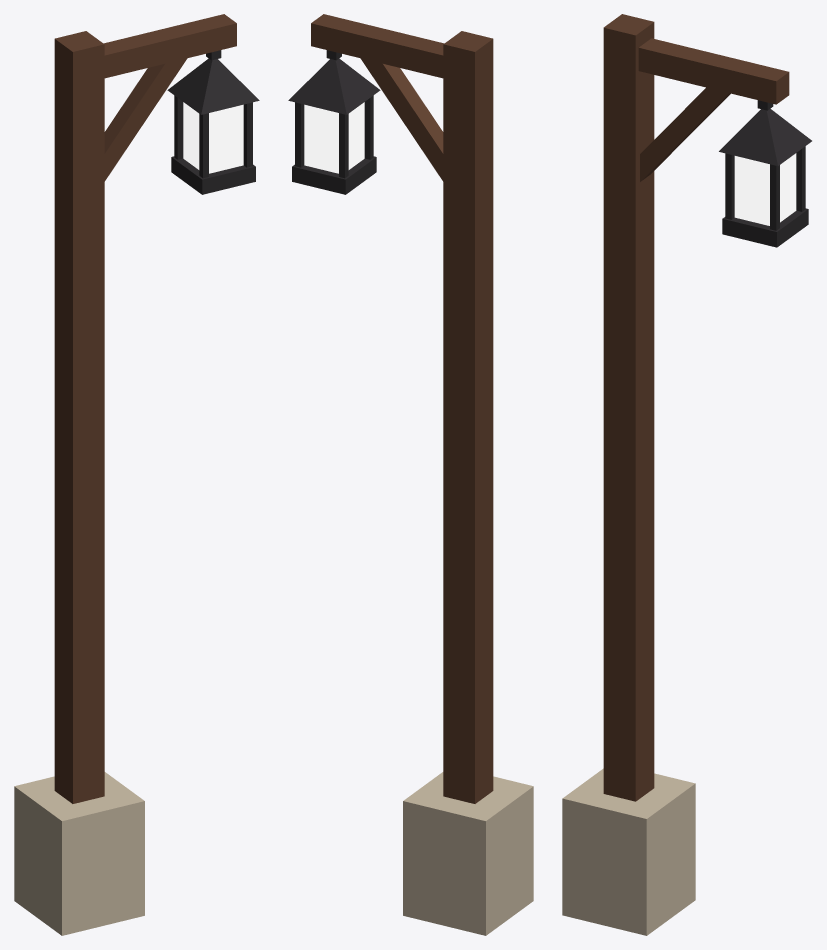
File: farol_pie.glb
3 views of the same model, side by side, from view 1: azimuth 30°, elevation 25°; view 2: azimuth 150°, elevation 25°; view 3: azimuth 330°, elevation 25° (orthographic).
Parts seen in each view (by area): view 1: farol_pie_fijo; view 2: farol_pie_fijo; view 3: farol_pie_fijo.
Part boxes in pixels (box(x1,y1,x2,y2)): farol_pie_fijo: box(14, 14, 259, 935); farol_pie_fijo: box(288, 14, 533, 935); farol_pie_fijo: box(562, 14, 811, 935).
Bounding box in the file's own units: 0.8402 × 3.4 × 0.34.
